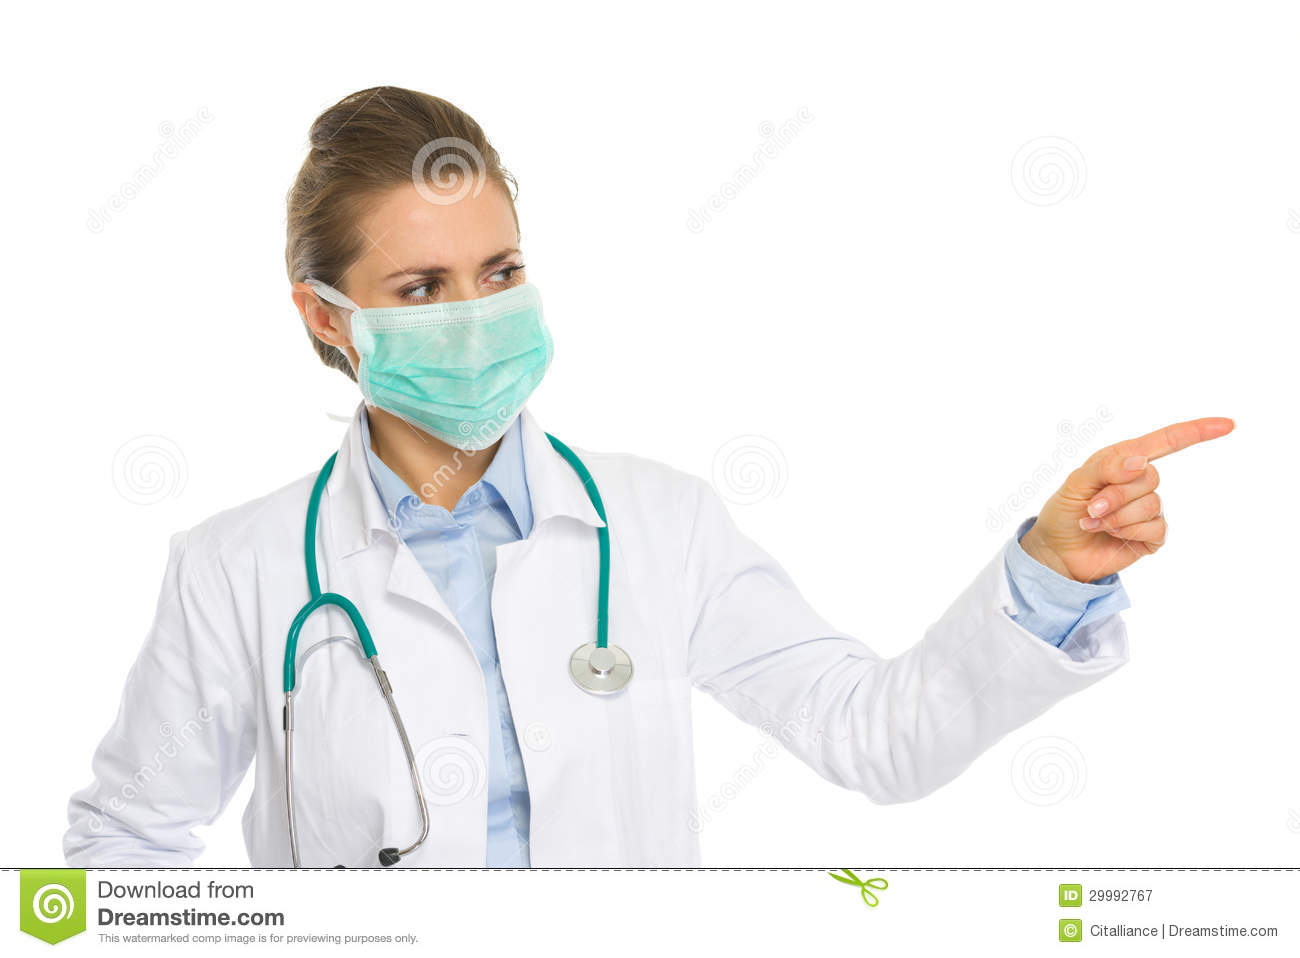mask: (350, 292, 555, 464)
